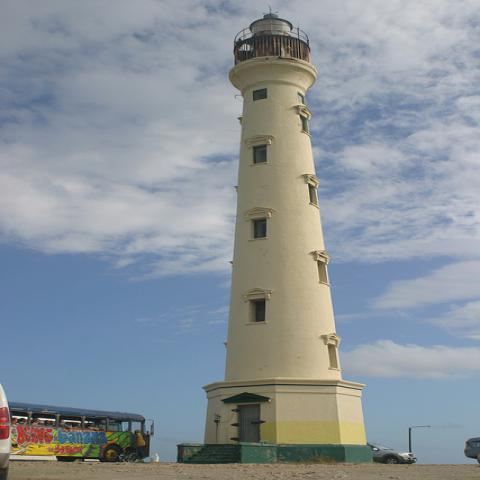bus: (9, 401, 157, 467)
car: (368, 442, 417, 464), (463, 437, 479, 465)
